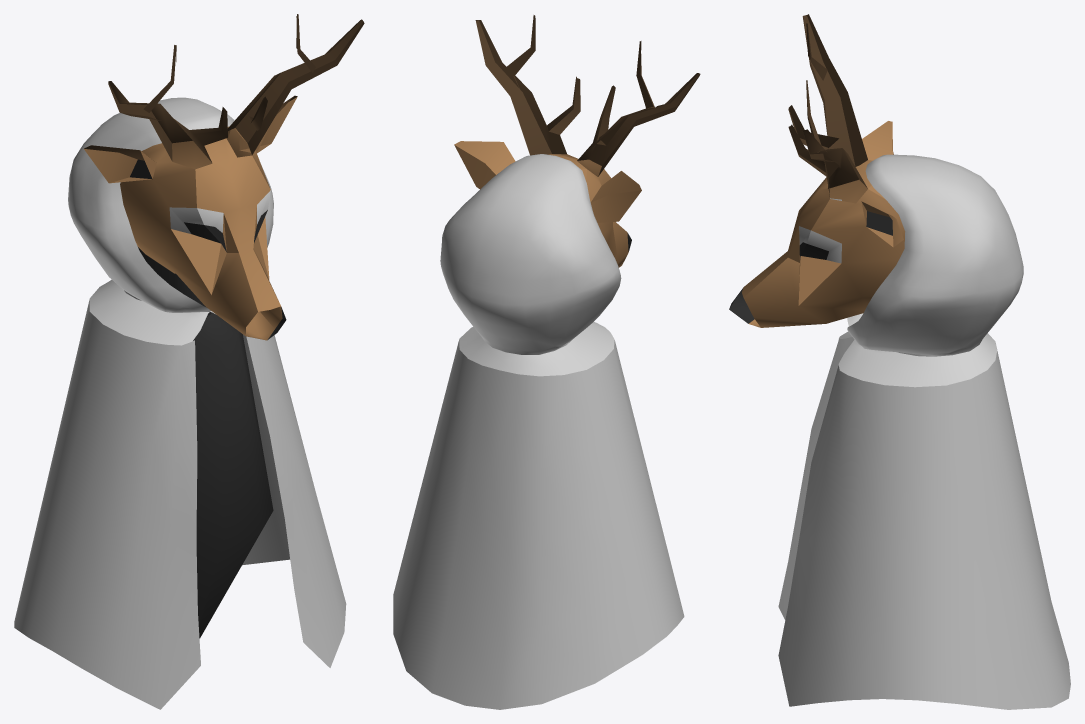
Rendered from Deer Imaginary Friend.fbx.
3 renders of one model, left to right at view 1: azimuth 30°, elevation 25°; view 2: azimuth 150°, elevation 25°; view 3: azimuth 270°, elevation 25°, orthographic. The views are drawn at different scales.
Parts seen in each view (by area): view 1: cape_2, body_4, Subdivision_Surface; view 2: cape_2, Subdivision_Surface, body_4; view 3: cape_2, Subdivision_Surface, body_4.
Part boxes in pixels (box(x1,y1,x2,y2)): cape_2: box(14, 300, 346, 709); body_4: box(84, 14, 364, 638); Subdivision_Surface: box(68, 97, 273, 345); cape_2: box(393, 340, 684, 709); Subdivision_Surface: box(440, 154, 621, 376); body_4: box(454, 15, 700, 267); cape_2: box(778, 337, 1070, 709); Subdivision_Surface: box(838, 154, 1023, 387); body_4: box(729, 14, 905, 327).
Bounding box in the file's own units: 80.33 × 173 × 84.72.
